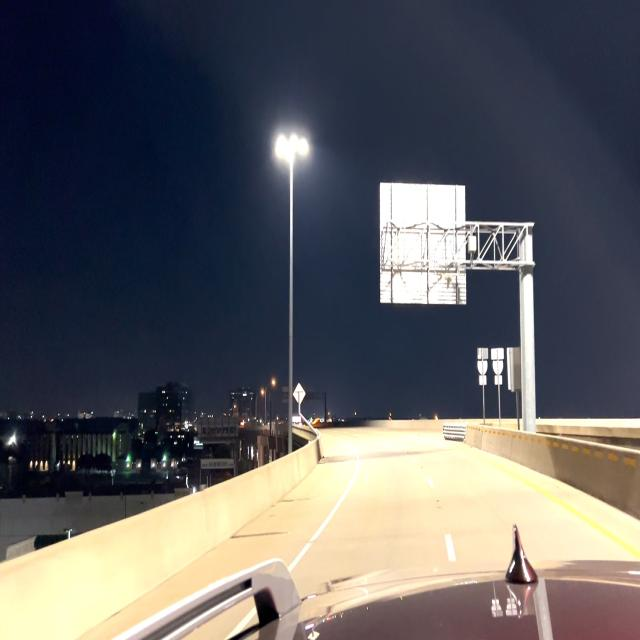back-of-sign: (381, 183, 466, 305), (508, 346, 522, 393), (492, 349, 504, 388), (479, 347, 489, 385)
